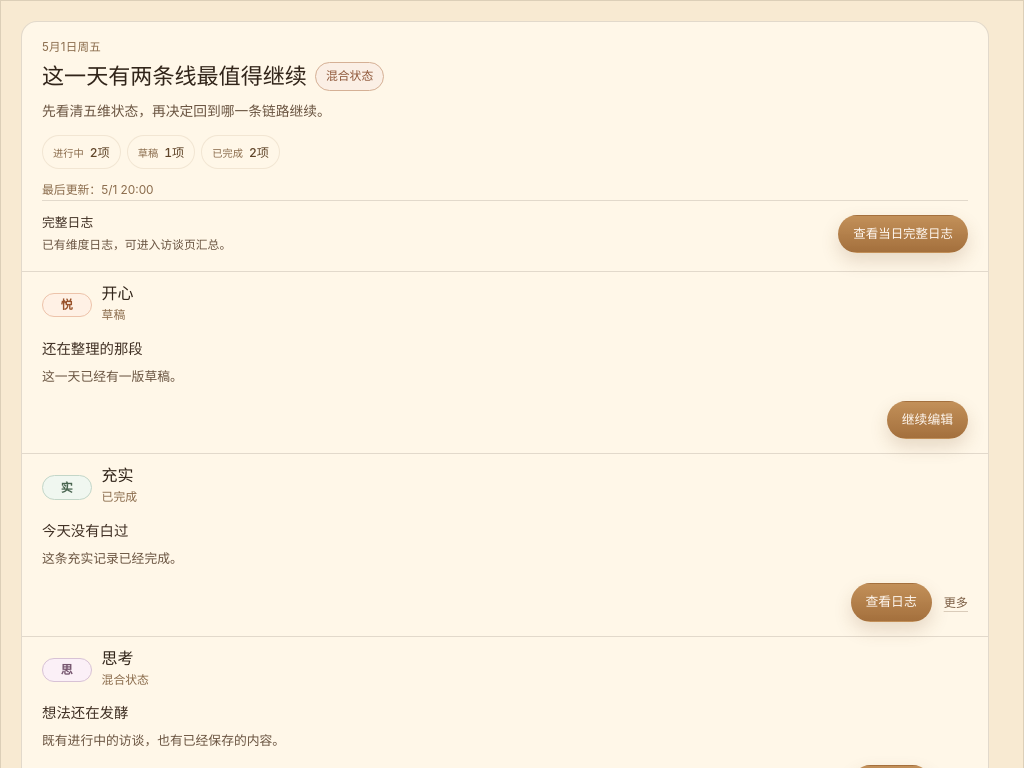
Scenario: calendar day shell › prompts to summarize real saved dimensions when no daily summary exists
The width and height of the screenshot is (1024, 768).
Click the button "查看当日完整日志" at (903, 234), box [838,215,968,253]
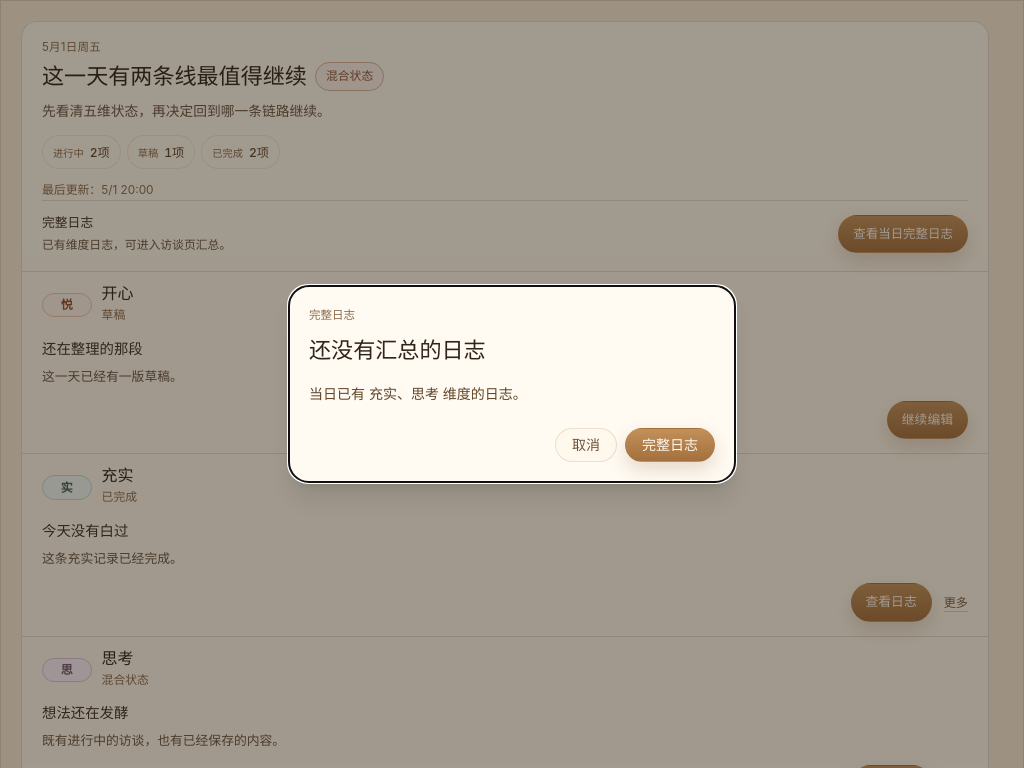
Expected: the text "当日已有 充实、思考 维度的日志。" is shown, [309,385,527,402]
Expected: the button "取消" is shown, [555,428,617,462]
